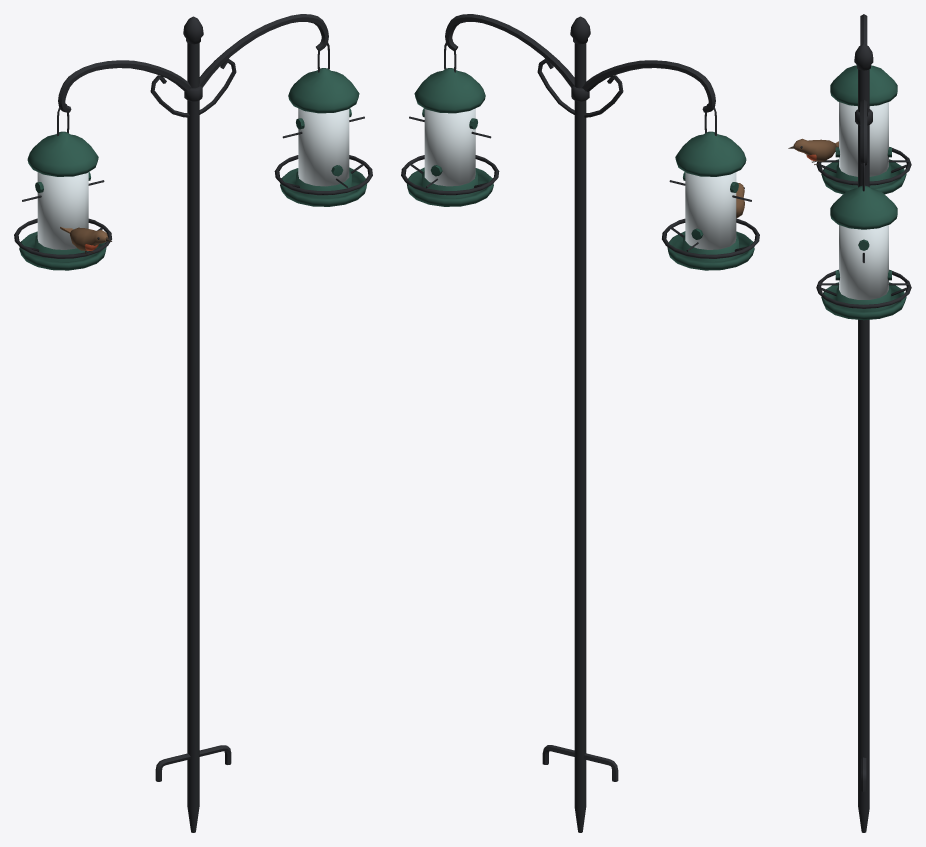
File: birdFeederPole.glb
3 views of the same model, side by side, from view 1: azimuth 30°, elevation 25°; view 2: azimuth 150°, elevation 25°; view 3: azimuth 270°, elevation 25° (orthographic). The views are drawn at different scales.
Visible parts, largest first — view 1: feeders; view 2: feeders; view 3: feeders.
Part boxes in pixels (<box>): feeders: <box>14,14,372,832</box>; feeders: <box>401,14,759,832</box>; feeders: <box>788,14,911,832</box>.
Bounding box in the file's own units: 0.85 × 1.91 × 0.2714.
